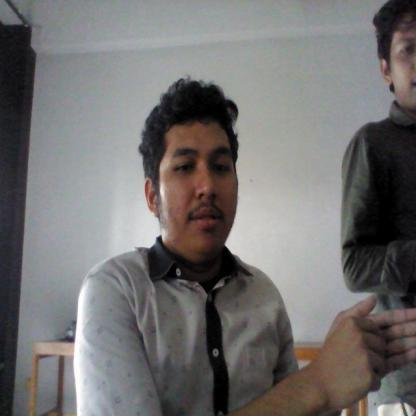Nama: (296, 285, 416, 403)
